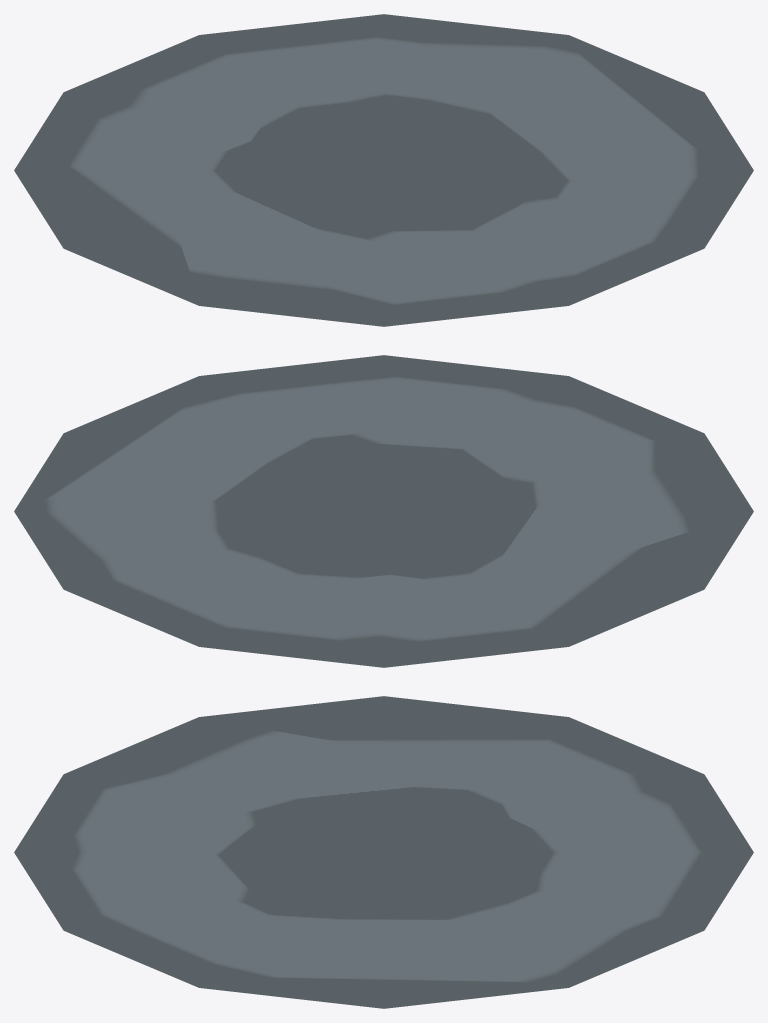
The model's file is SM_Prop_Fountain_Base_01_Insert_01.fbx.
3 views of the same model, one above another, from view 1: azimuth 30°, elevation 25°; view 2: azimuth 150°, elevation 25°; view 3: azimuth 270°, elevation 25° (orthographic).
Parts seen in each view (by area): view 1: SM_Prop_Fountain_Base_01_Insert_01; view 2: SM_Prop_Fountain_Base_01_Insert_01; view 3: SM_Prop_Fountain_Base_01_Insert_01.
Part boxes in pixels (x1,y1,x2,y2): SM_Prop_Fountain_Base_01_Insert_01: (14, 14, 753, 326); SM_Prop_Fountain_Base_01_Insert_01: (14, 355, 753, 667); SM_Prop_Fountain_Base_01_Insert_01: (14, 696, 753, 1008).
Bounding box in the file's own units: 247 × 3.81e-06 × 247.
1 material, 1 textured.
